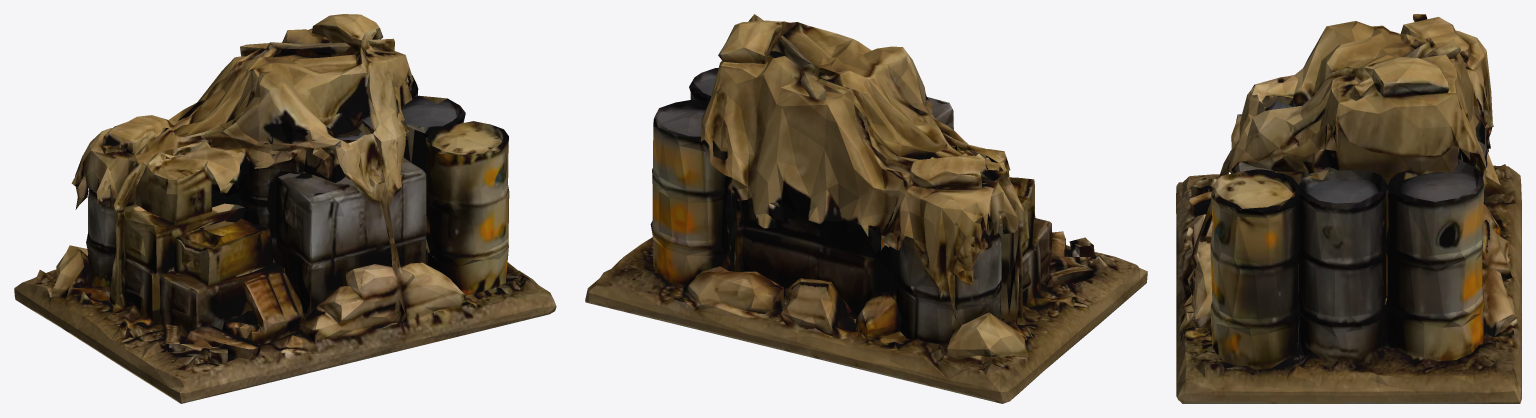
The model's file is outpost-crate-stack.glb.
The picture shows the model from 3 angles, left to right: view 1: azimuth 30°, elevation 25°; view 2: azimuth 150°, elevation 25°; view 3: azimuth 270°, elevation 25°; orthographic projection. The views are drawn at different scales.
Visible parts, largest first — view 1: tmpli8pitrz.ply; view 2: tmpli8pitrz.ply; view 3: tmpli8pitrz.ply.
Boxes of the visible parts, x1=… form: tmpli8pitrz.ply: x1=14, y1=14, x2=556, y2=403; tmpli8pitrz.ply: x1=585, y1=14, x2=1147, y2=403; tmpli8pitrz.ply: x1=1176, y1=14, x2=1521, y2=403.
Bounding box in the file's own units: 3 × 1.8 × 2.
Materials: 1 (1 with a texture image).
